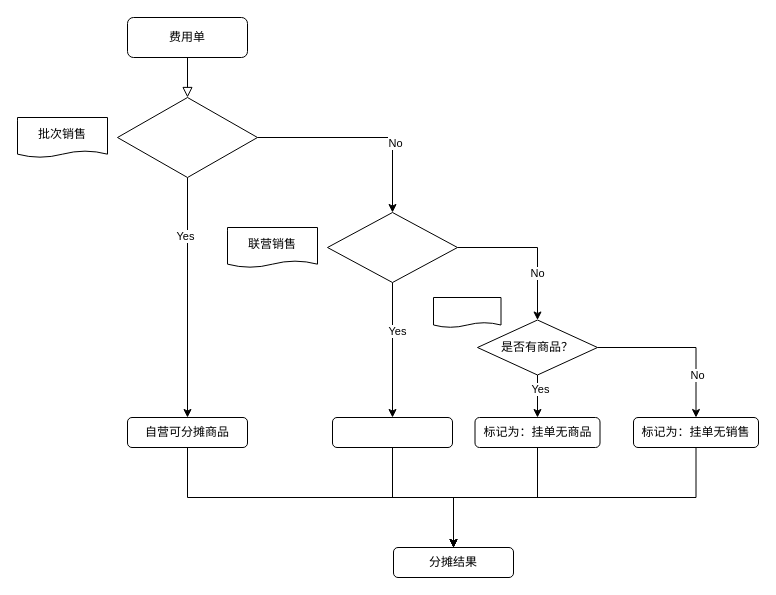
The diagram is 776 pixels wide and 595 high, and some of its shapes have lost their labels. The centre of each missing label's shape, as x and y in pixels:
"日结" belongs at pixel 466 312.
"是否联营可分摊" belongs at pixel 392 247.
"是否自营可分摊？" belongs at pixel 187 137.
"联营可分摊商品" belongs at pixel 392 432.
